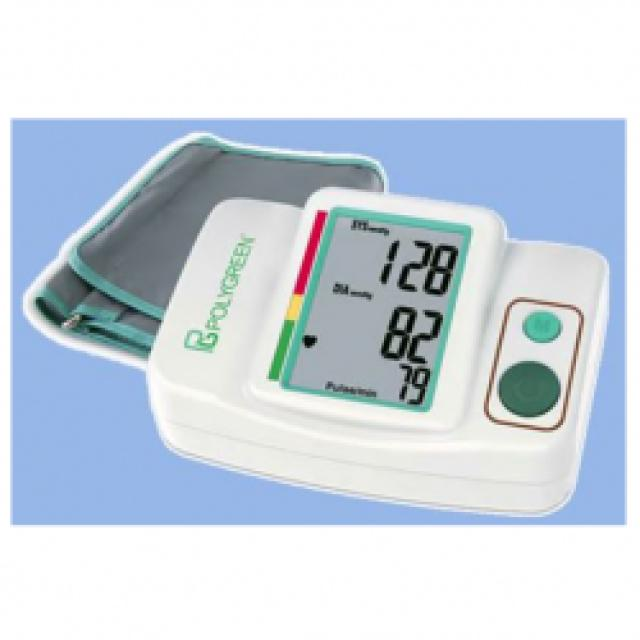dia: (367, 287, 454, 373)
pul: (377, 360, 435, 414)
ssd: (283, 199, 468, 422)
sys: (367, 230, 465, 302)
